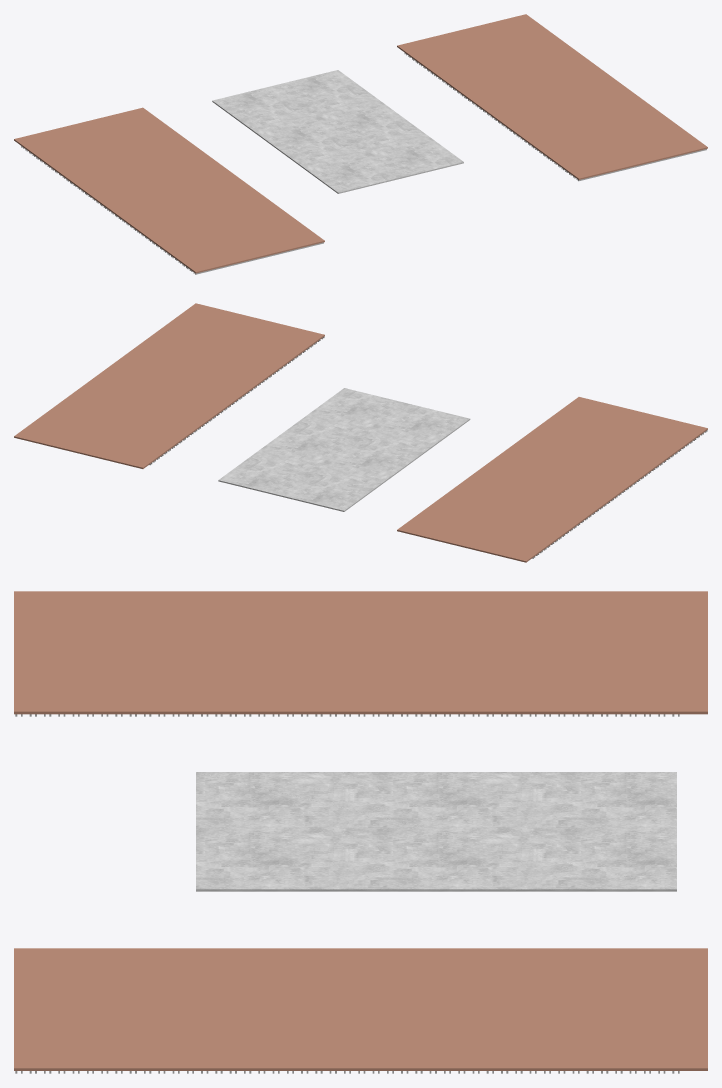
File: MeshBaker (0)-mesh-mesh.fbx
3 renders of one model, top to bottom at view 1: azimuth 30°, elevation 25°; view 2: azimuth 150°, elevation 25°; view 3: azimuth 270°, elevation 25°, orthographic. The views are drawn at different scales.
Visible parts, largest first — view 1: MeshBaker__0__mesh_mesh; view 2: MeshBaker__0__mesh_mesh; view 3: MeshBaker__0__mesh_mesh.
Boxes of the visible parts, x1,y1,x2,y2 form: MeshBaker__0__mesh_mesh: (14,14,707,274); MeshBaker__0__mesh_mesh: (14,303,707,562); MeshBaker__0__mesh_mesh: (14,591,707,1073).
Bounding box in the file's own units: 2173 × 12.74 × 1336.
